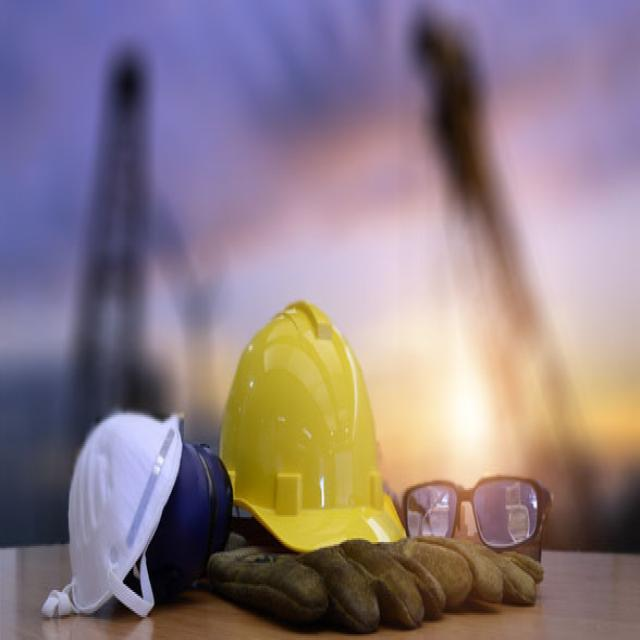helmet: (207, 282, 405, 564)
